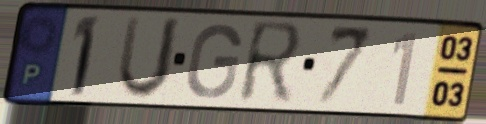1: (70, 13, 103, 99), (389, 29, 420, 107)
7: (318, 22, 377, 109)
G: (183, 21, 245, 101)
R: (235, 18, 307, 107)
U: (113, 13, 185, 103)
